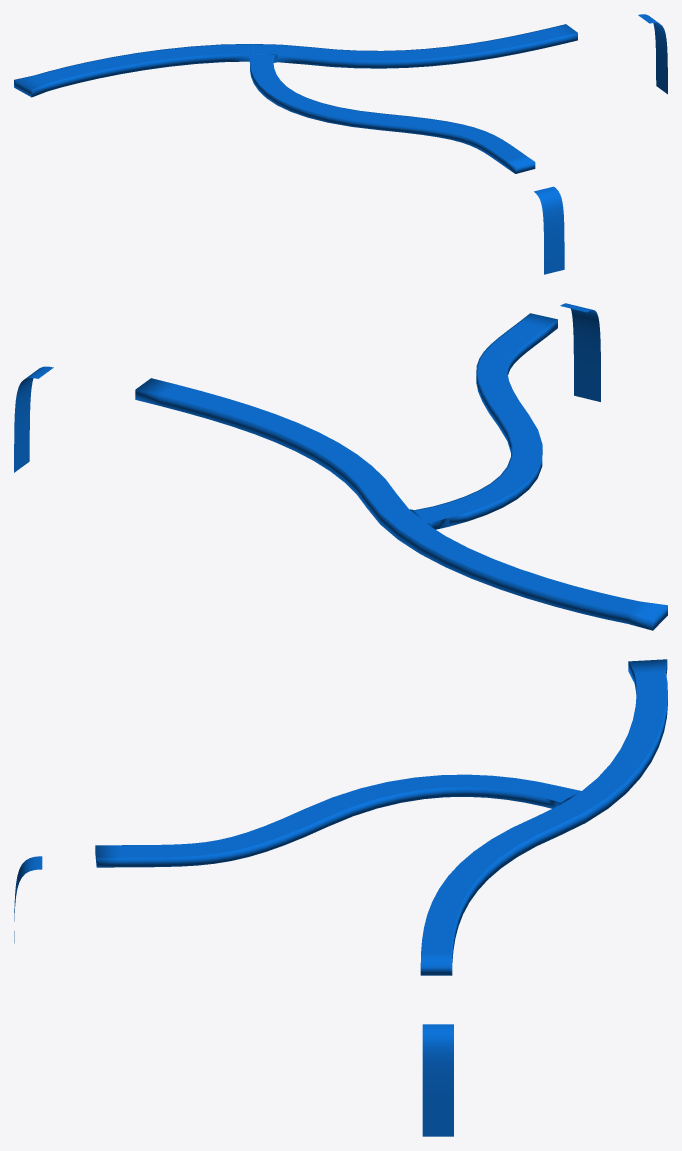
File: eau.gltf
The picture shows the model from 3 angles, top to bottom: view 1: azimuth 30°, elevation 25°; view 2: azimuth 150°, elevation 25°; view 3: azimuth 270°, elevation 25°; orthographic projection. The views are drawn at different scales.
Parts seen in each view (by area): view 1: canal grand, BezierCurve.013, BezierCurve.014; view 2: canal grand, BezierCurve.013, BezierCurve.014; view 3: canal grand, BezierCurve.014.
Boxes of the visible parts, x1,y1,x2,y2 form: canal grand: (14,24,577,173); BezierCurve.013: (534,186,564,274); BezierCurve.014: (638,14,667,94); canal grand: (135,313,667,630); BezierCurve.013: (560,303,600,401); BezierCurve.014: (14,366,53,472); canal grand: (95,659,667,975); BezierCurve.014: (422,1024,453,1136).
Size of the model in its own units: 3.72 by 0.5353 by 2.82.
1 material, 1 textured.
